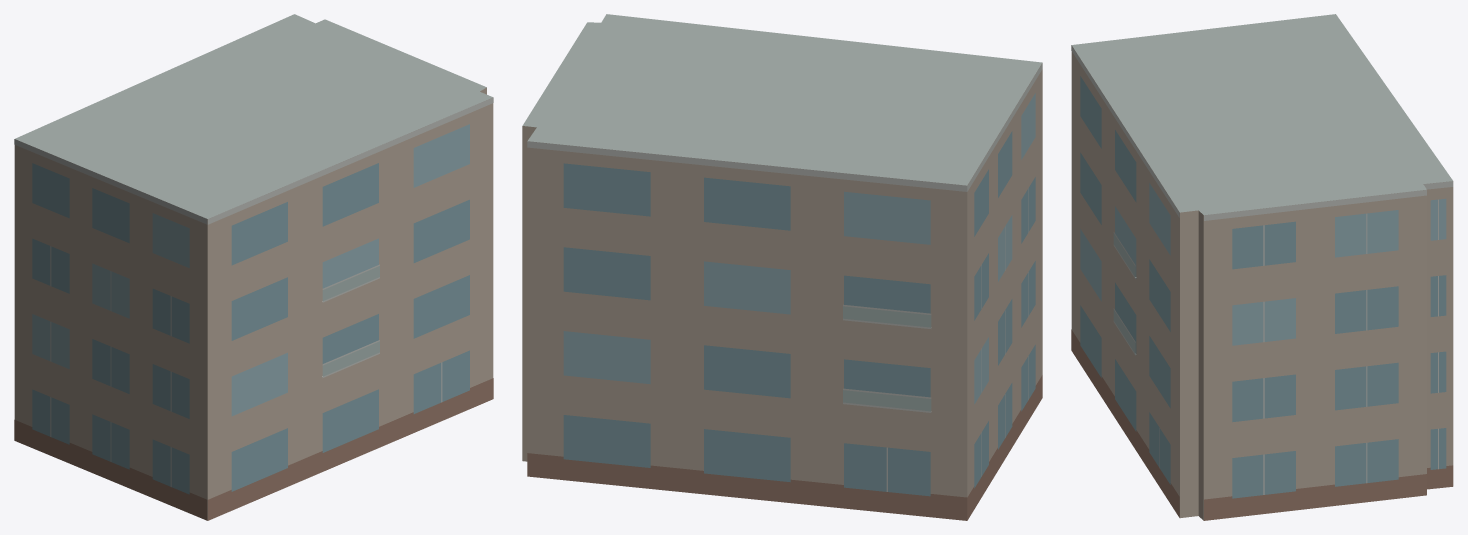
File: survey-upis-32869540.glb
The picture shows the model from 3 angles, left to right: view 1: azimuth 30°, elevation 25°; view 2: azimuth 150°, elevation 25°; view 3: azimuth 270°, elevation 25°; orthographic projection. The views are drawn at different scales.
Parts seen in each view (by area): view 1: survey-upis-32869540.tmp; view 2: survey-upis-32869540.tmp; view 3: survey-upis-32869540.tmp.
Boxes of the visible parts, x1=… form: survey-upis-32869540.tmp: x1=14, y1=14, x2=493, y2=520; survey-upis-32869540.tmp: x1=522, y1=14, x2=1042, y2=520; survey-upis-32869540.tmp: x1=1071, y1=14, x2=1453, y2=520.
Size of the model in its own units: 18.14 by 12.84 by 14.55.
